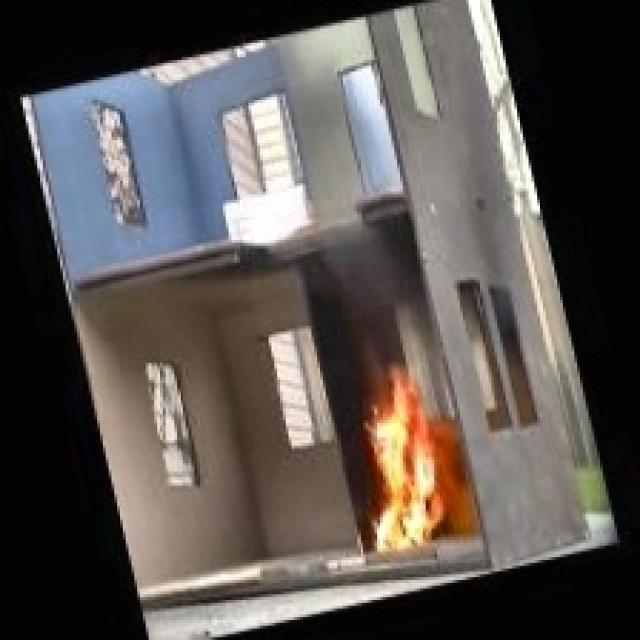fire: (337, 348, 497, 592)
